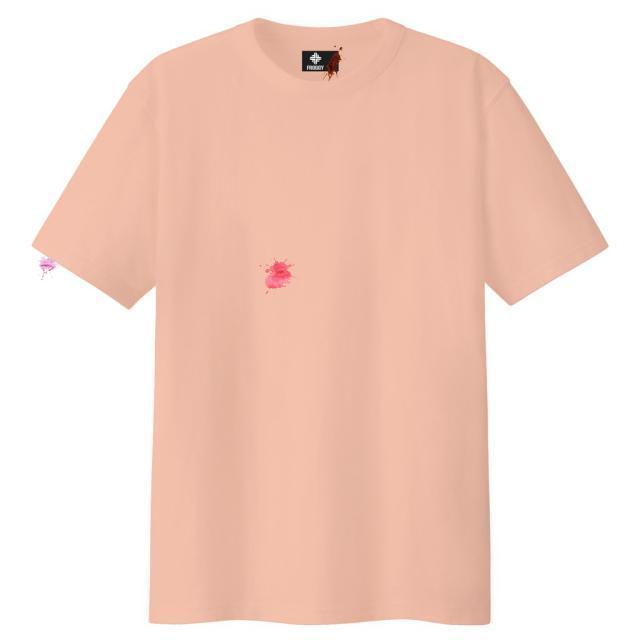stain: (262, 250, 301, 296), (320, 47, 352, 88), (37, 251, 66, 285)
